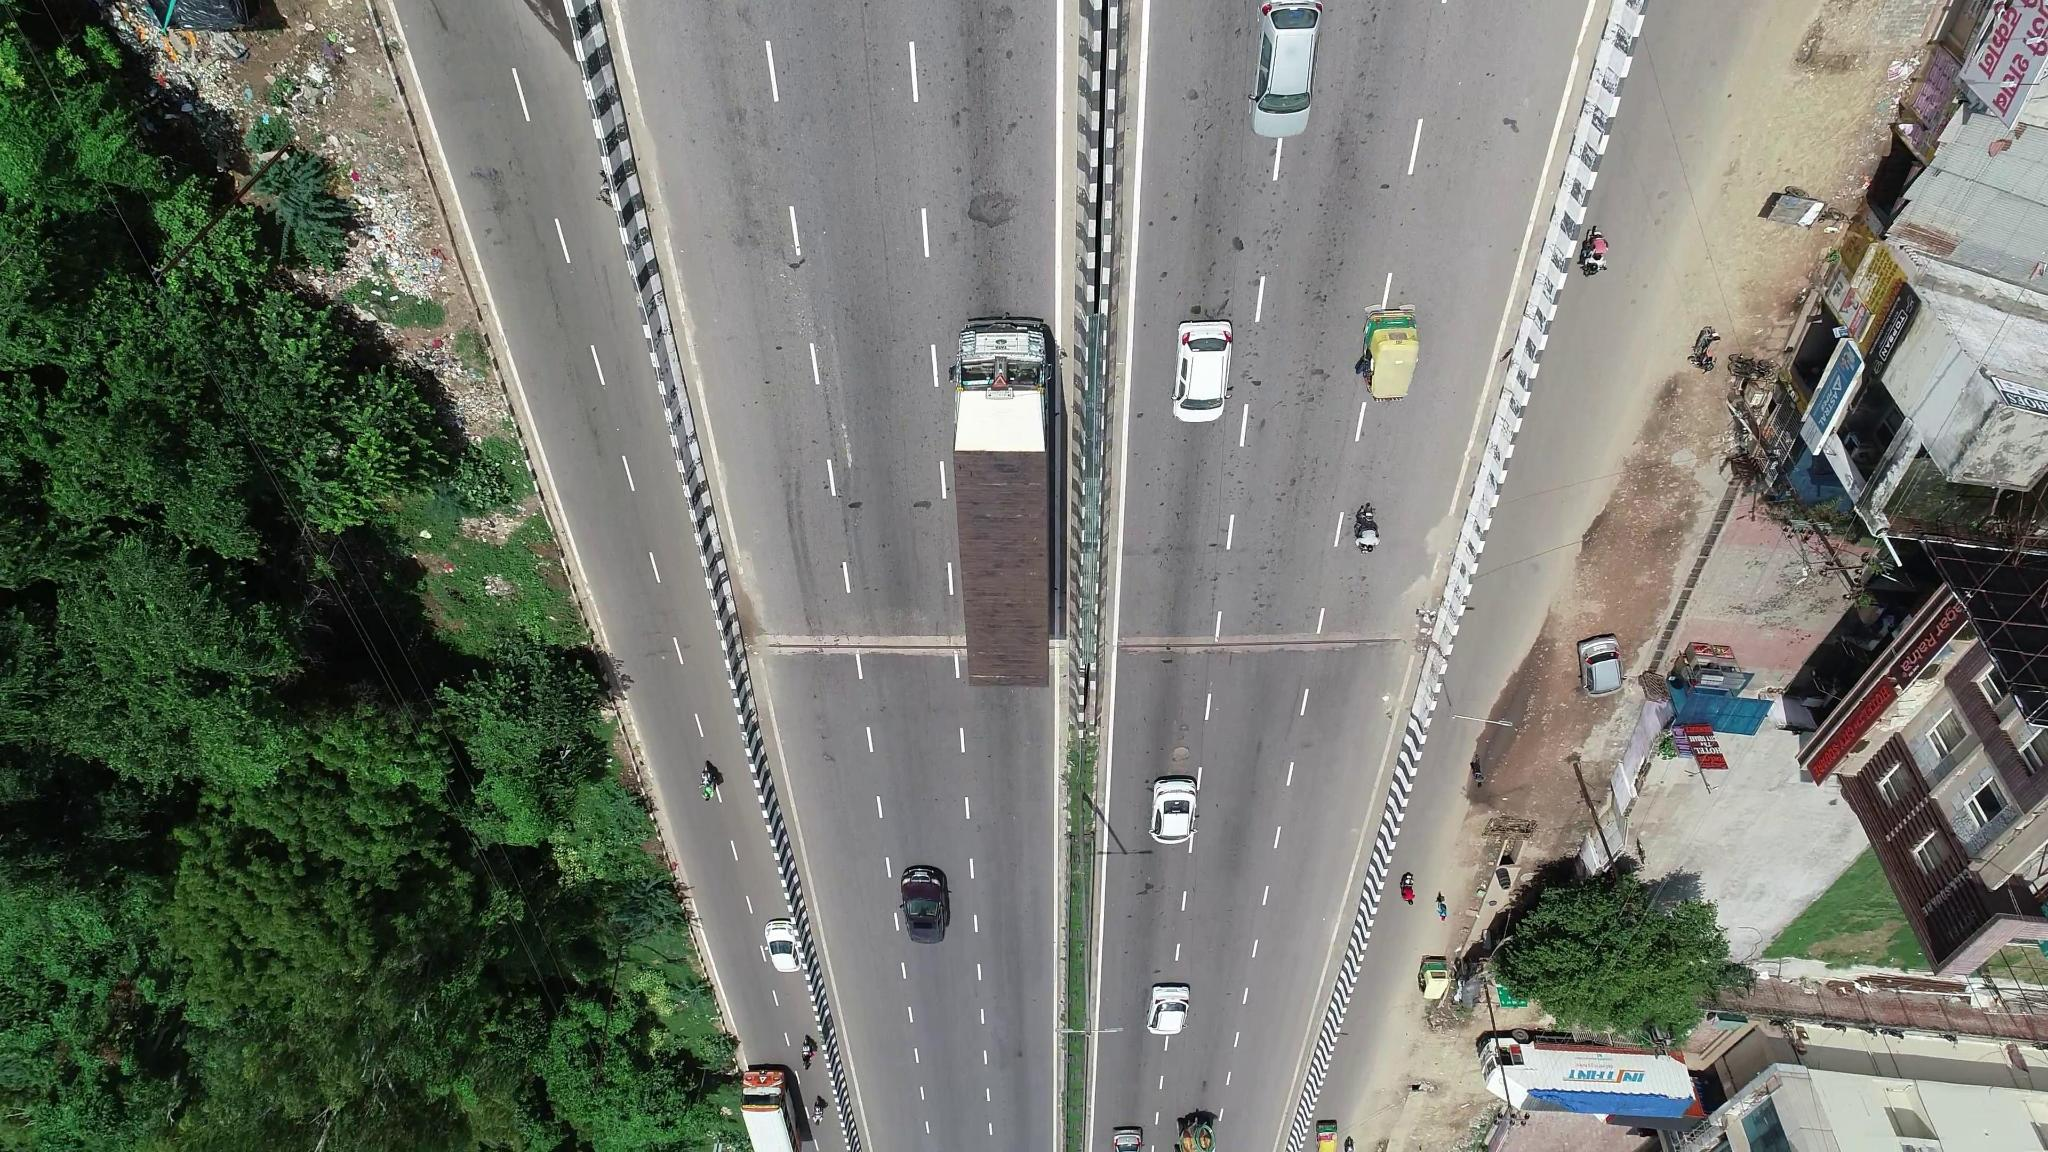Potholes: (1160, 729, 1227, 781)
